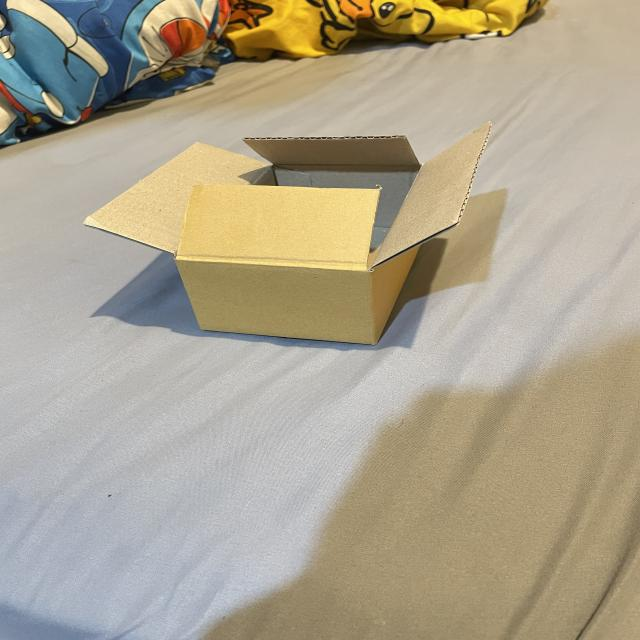box: (82, 121, 493, 346)
opened: (83, 123, 494, 270)
